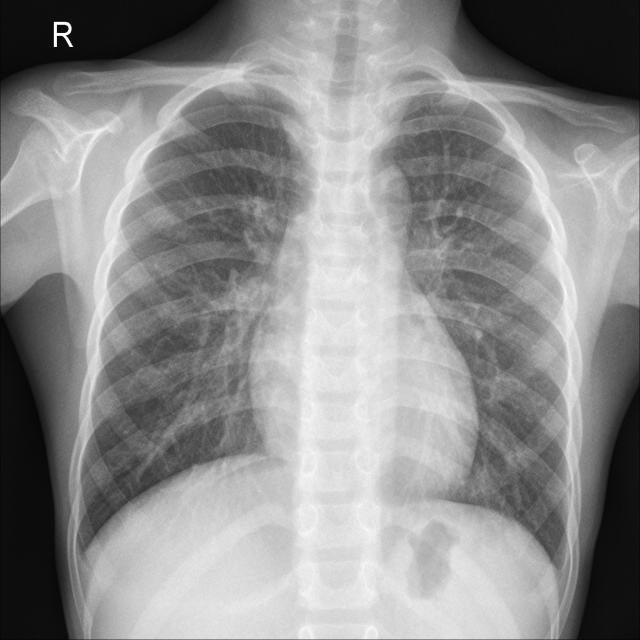no-pneumonia: (75, 82, 308, 554), (387, 82, 583, 598)
